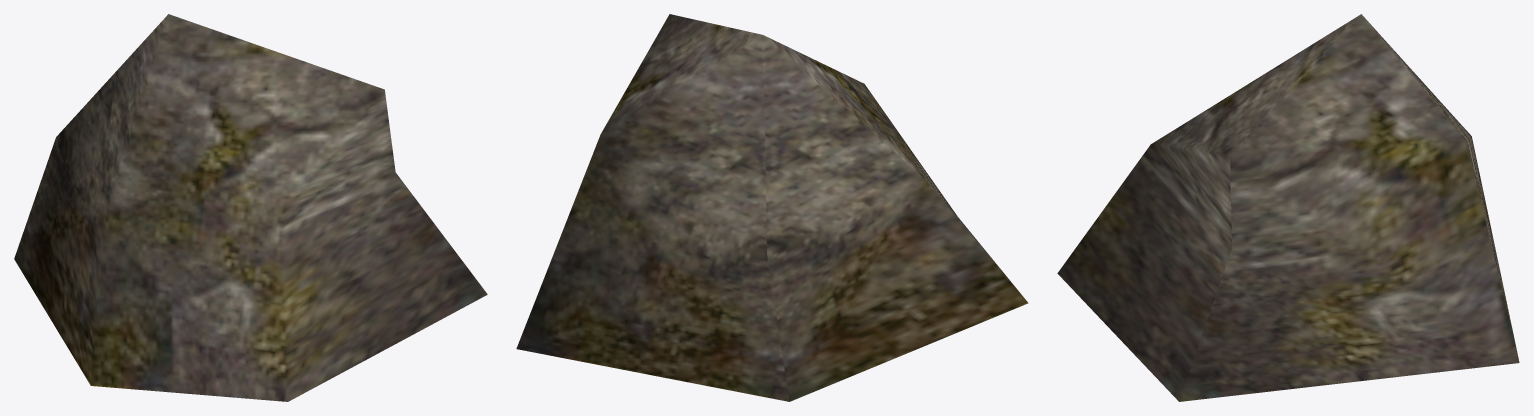
File: hazz_shitou_04.FBX
3 views of the same model, side by side, from view 1: azimuth 30°, elevation 25°; view 2: azimuth 150°, elevation 25°; view 3: azimuth 270°, elevation 25° (orthographic). The views are drawn at different scales.
Parts seen in each view (by area): view 1: hazz_shitou_04; view 2: hazz_shitou_04; view 3: hazz_shitou_04.
Boxes of the visible parts, x1,y1,x2,y2 form: hazz_shitou_04: [14, 14, 487, 401]; hazz_shitou_04: [516, 14, 1028, 401]; hazz_shitou_04: [1057, 14, 1519, 401].
Bounding box in the file's own units: 57.18 × 37.81 × 57.71.
